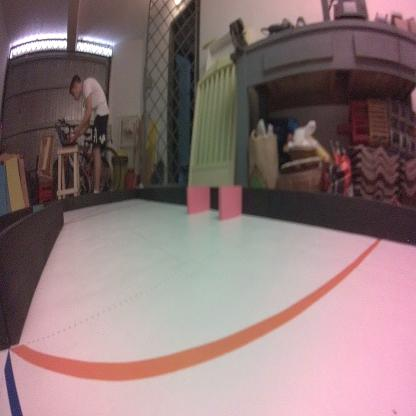magenta: (218, 183, 243, 220), (185, 186, 211, 213)
